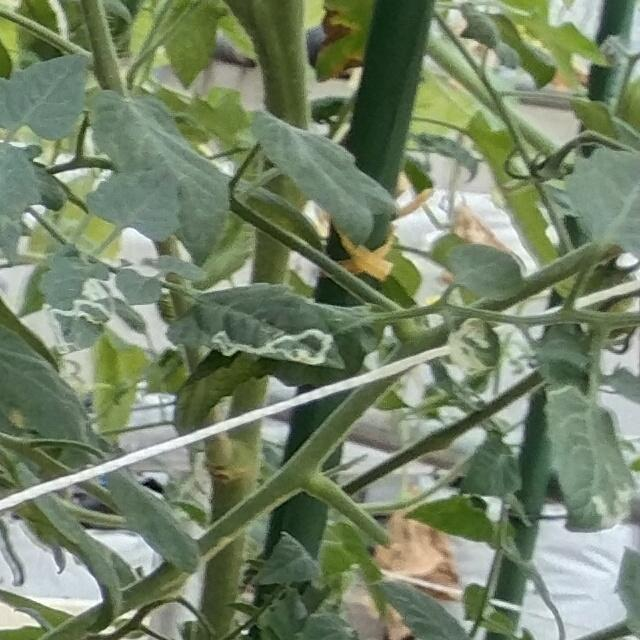Healthy: (85, 87, 232, 266), (249, 108, 377, 248), (79, 162, 183, 247), (0, 48, 92, 141)
Leaf_Miner: (167, 281, 348, 370), (543, 376, 640, 533), (36, 249, 114, 357)
